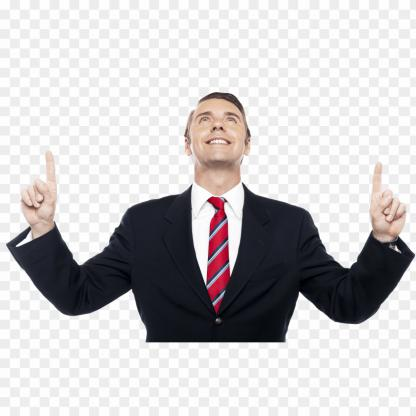Up: (351, 154, 414, 256), (11, 145, 75, 227)
